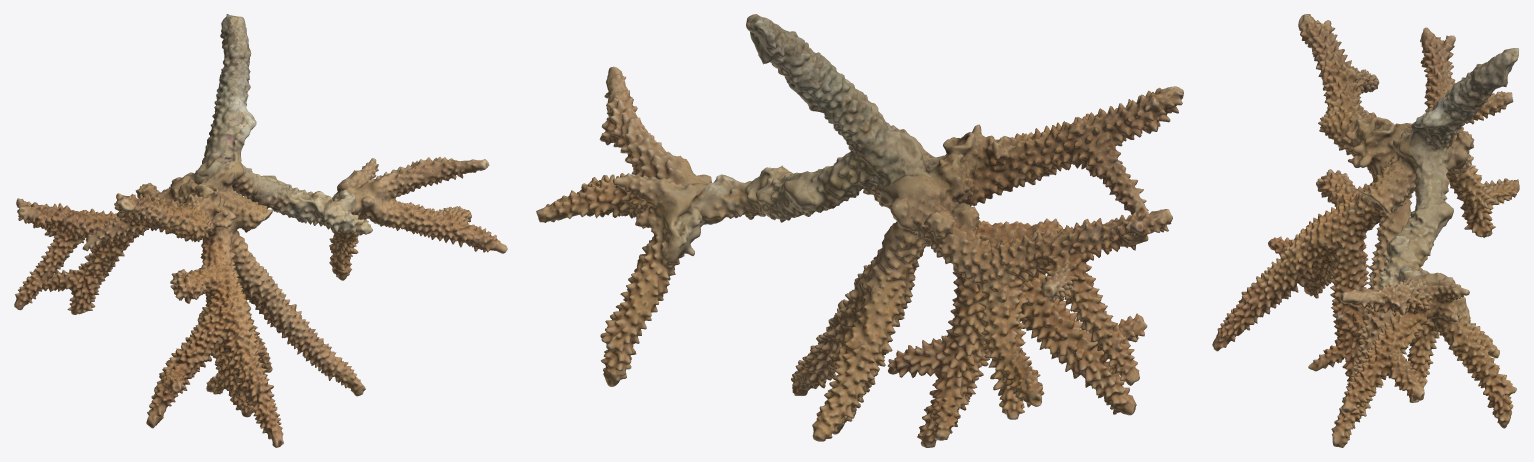
File: staghorn.glb
The picture shows the model from 3 angles, left to right: view 1: azimuth 30°, elevation 25°; view 2: azimuth 150°, elevation 25°; view 3: azimuth 270°, elevation 25°; orthographic projection. The views are drawn at different scales.
Size of the model in its own units: 0.2159 by 0.1549 by 0.1143.
Materials: 1 (1 with a texture image).
